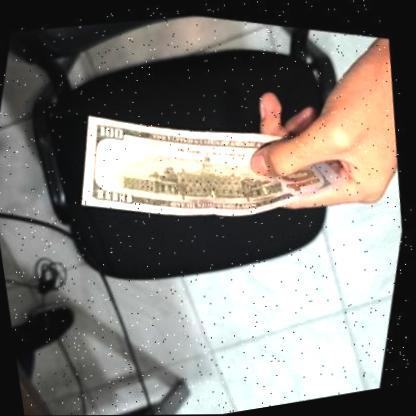dollar_back: (58, 62, 369, 274)
